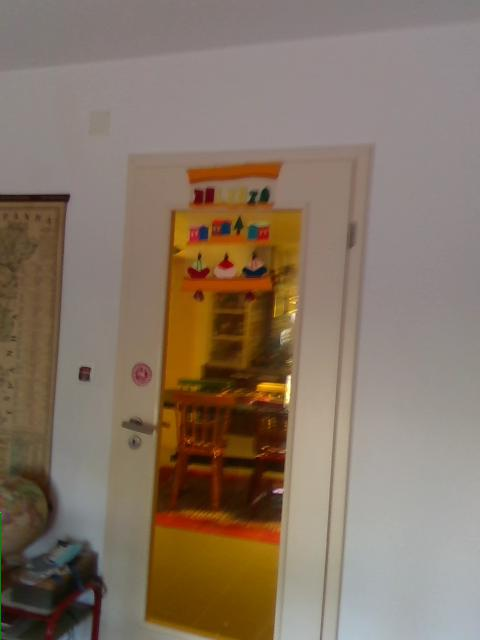door: (99, 153, 353, 639)
